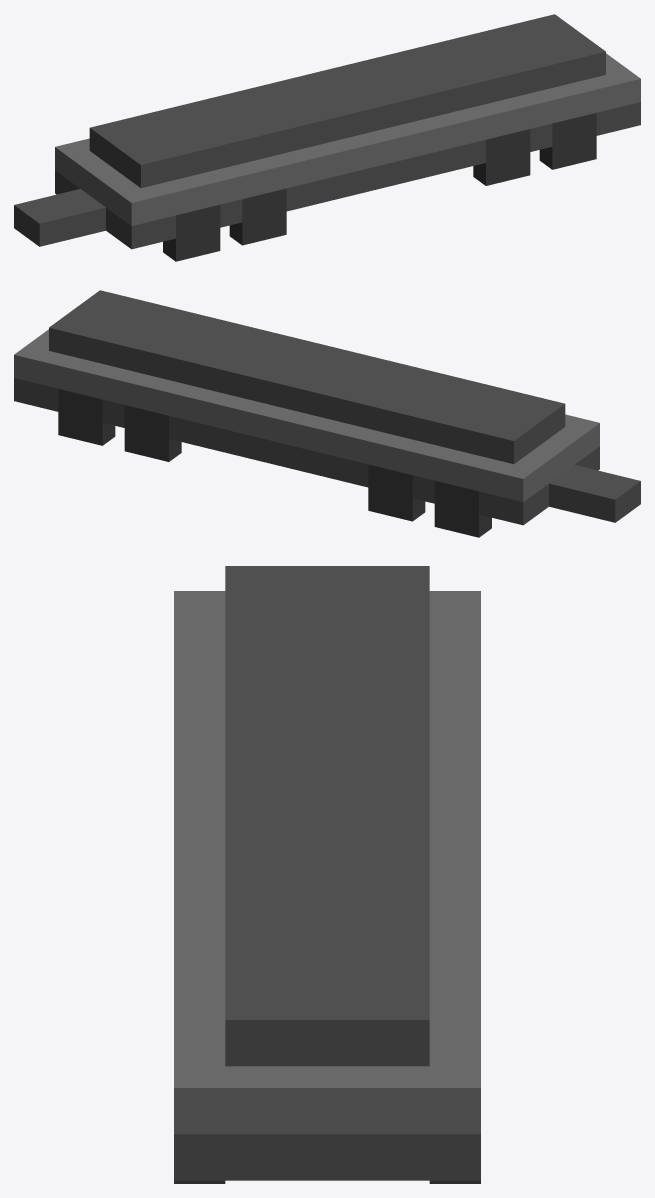
The model's file is train-trailer-v7-grey.gltf.
3 renders of one model, top to bottom at view 1: azimuth 30°, elevation 25°; view 2: azimuth 150°, elevation 25°; view 3: azimuth 270°, elevation 25°, orthographic. The views are drawn at different scales.
Visible parts, largest first — view 1: model, wheels; view 2: model, wheels; view 3: model.
Part boxes in pixels (x1,y1,x2,y2): model: (14,14,640,249); wheels: (163,113,596,261); model: (14,290,640,525); wheels: (58,389,491,537); model: (174,566,480,1180).
Size of the model in its own units: 2.6 by 0.4 by 0.6.
2 materials, 2 textured.
